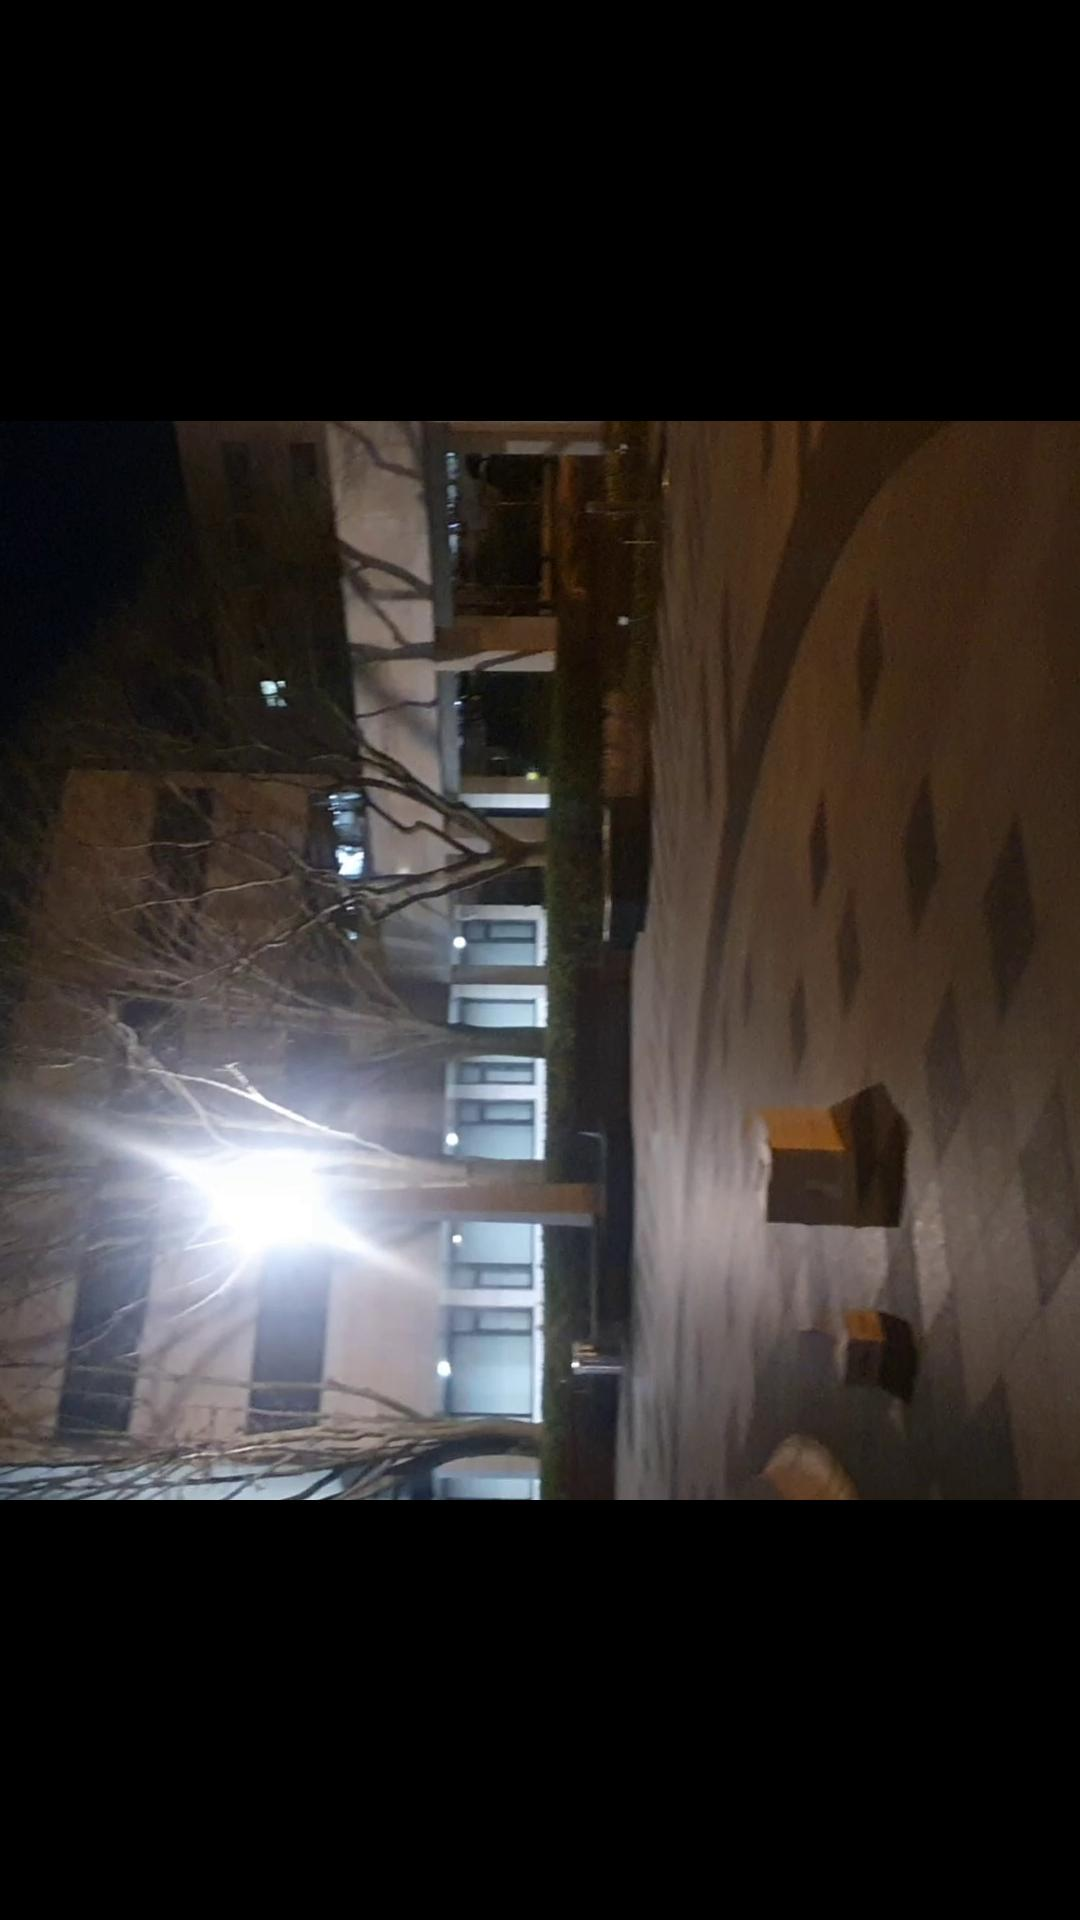Box: (742, 1106, 884, 1224), (823, 1308, 899, 1396)
